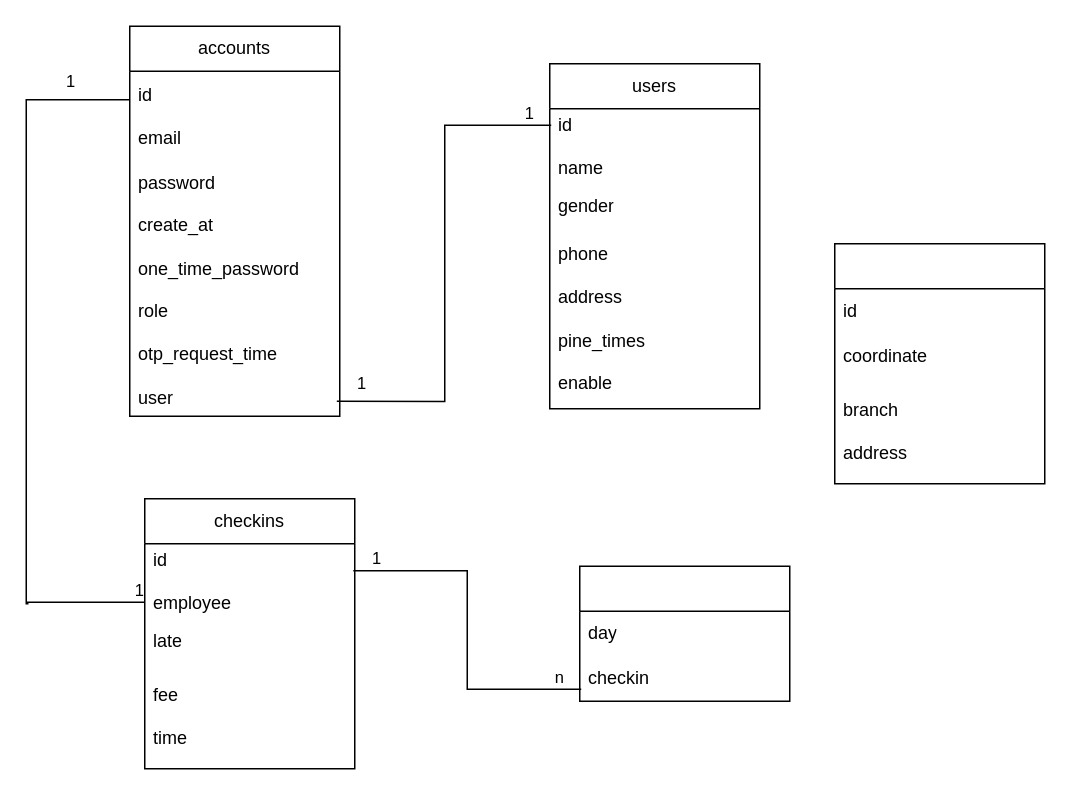
The diagram is 1071 pixels wide and 795 high, and some of its shapes have lost their labels. Here are the shapes that lost their labels. From the top down, the box of each, then its label:
(833, 242, 1045, 484): locations
(578, 565, 790, 701): work_days
